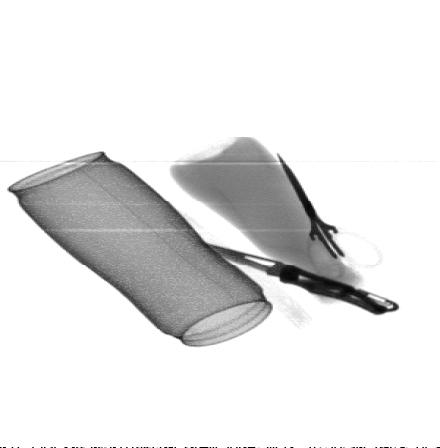Knife: (199, 240, 400, 315)
Scissors: (275, 152, 390, 281)
